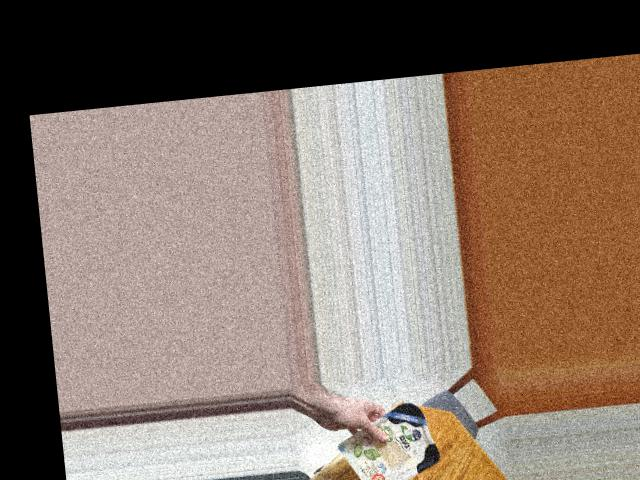cheese: (343, 394, 443, 480)
